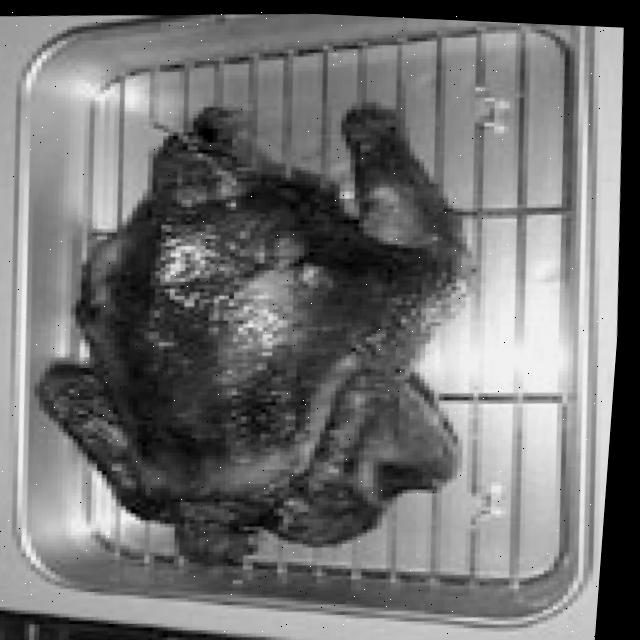鸡肉料理 含炸鸡: (0, 70, 506, 598)
